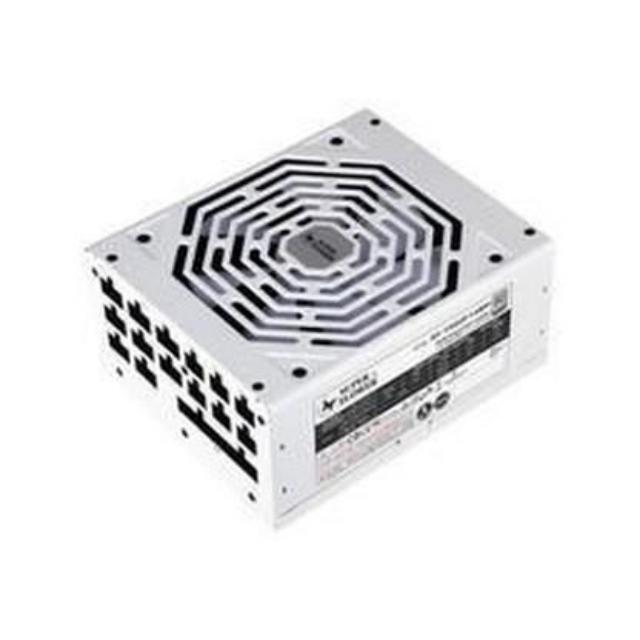PSU: (73, 102, 579, 527)
